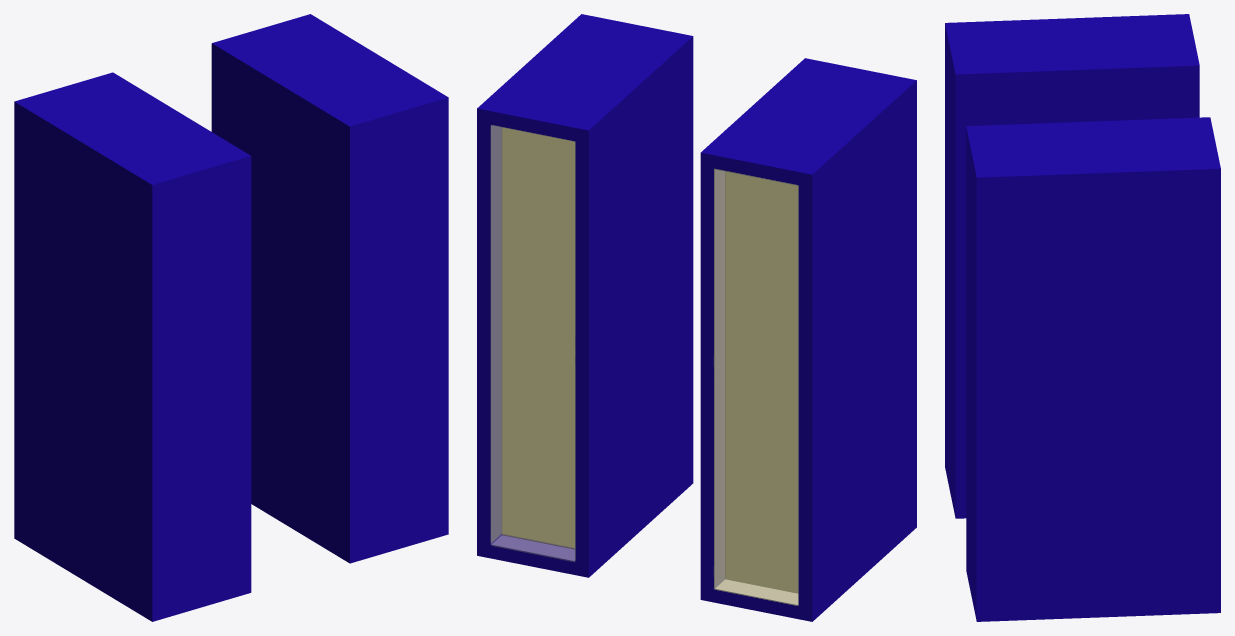
The model's file is pause.fbx.
The picture shows the model from 3 angles, left to right: view 1: azimuth 30°, elevation 25°; view 2: azimuth 150°, elevation 25°; view 3: azimuth 270°, elevation 25°; orthographic projection. The views are drawn at different scales.
Visible parts, largest first — view 1: Cube; view 2: Cube; view 3: Cube.
Part boxes in pixels (x1,y1,x2,y2): Cube: [14, 14, 448, 621]; Cube: [477, 14, 916, 621]; Cube: [945, 14, 1220, 621].
Size of the model in its own units: 113 by 158 by 200.
